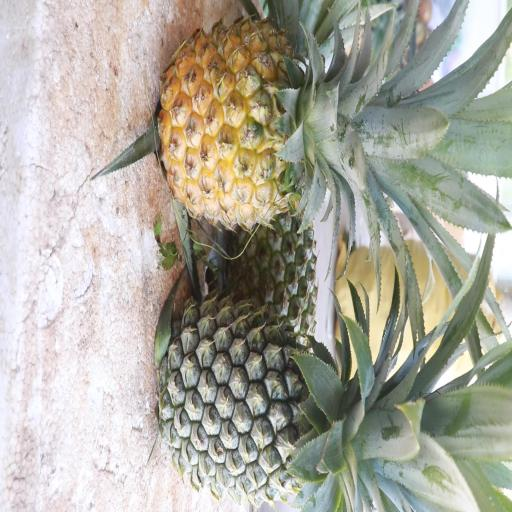Pineapple - v8 v1: (151, 9, 433, 243)
